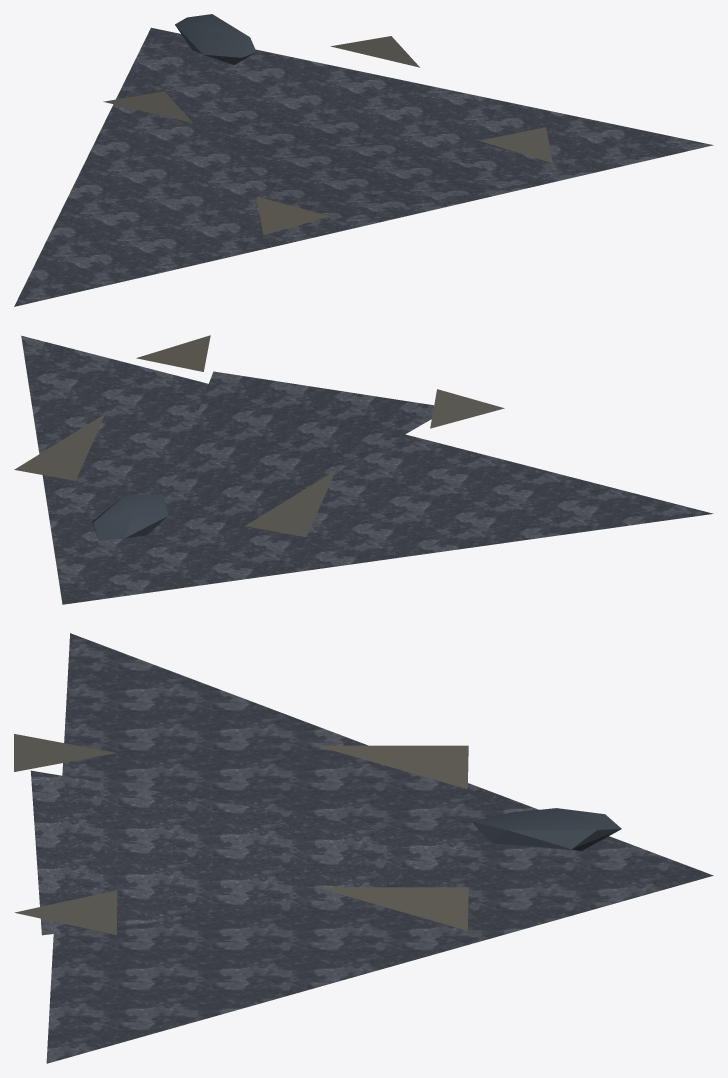
Rendered from air_e4_us_stealthbomber_LOD2.glb.
3 renders of one model, top to bottom at view 1: azimuth 30°, elevation 25°; view 2: azimuth 150°, elevation 25°; view 3: azimuth 270°, elevation 25°, orthographic. The views are drawn at different scales.
Visible parts, largest first — view 1: air_e4_us_stealthbomber_LOD2_body, air_e4_us_stealthbomber_LOD2_deck, air_e4_us_stealthbomber_LOD2_glass; view 2: air_e4_us_stealthbomber_LOD2_body, air_e4_us_stealthbomber_LOD2_deck, air_e4_us_stealthbomber_LOD2_glass; view 3: air_e4_us_stealthbomber_LOD2_body, air_e4_us_stealthbomber_LOD2_deck, air_e4_us_stealthbomber_LOD2_glass.
Part boxes in pixels (x1,y1,x2,y2): air_e4_us_stealthbomber_LOD2_body: [14, 27, 713, 306]; air_e4_us_stealthbomber_LOD2_deck: [103, 36, 552, 235]; air_e4_us_stealthbomber_LOD2_glass: [175, 14, 256, 64]; air_e4_us_stealthbomber_LOD2_body: [21, 335, 713, 604]; air_e4_us_stealthbomber_LOD2_deck: [14, 335, 504, 537]; air_e4_us_stealthbomber_LOD2_glass: [91, 494, 168, 540]; air_e4_us_stealthbomber_LOD2_body: [30, 633, 713, 1063]; air_e4_us_stealthbomber_LOD2_deck: [14, 734, 468, 934]; air_e4_us_stealthbomber_LOD2_glass: [471, 808, 621, 850].
Size of the model in its own units: 23.74 by 1.84 by 16.3.
3 materials, 1 textured.
